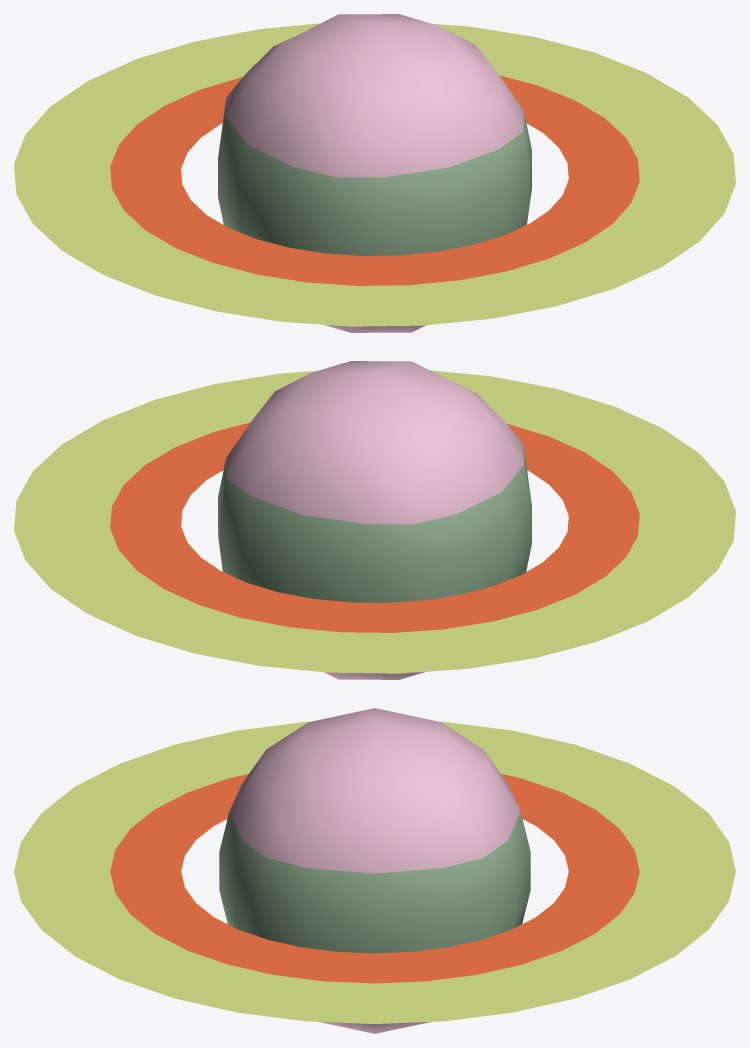
The model's file is SM_Planet_Ringed_01.fbx.
3 views of the same model, one above another, from view 1: azimuth 30°, elevation 25°; view 2: azimuth 150°, elevation 25°; view 3: azimuth 270°, elevation 25° (orthographic).
Parts seen in each view (by area): view 1: SM_Planet_Ringed_01; view 2: SM_Planet_Ringed_01; view 3: SM_Planet_Ringed_01.
Boxes of the visible parts, <box> form: SM_Planet_Ringed_01: <box>14,14,735,332</box>; SM_Planet_Ringed_01: <box>14,361,735,679</box>; SM_Planet_Ringed_01: <box>14,708,735,1033</box>.
Bounding box in the file's own units: 227 × 102 × 227.
